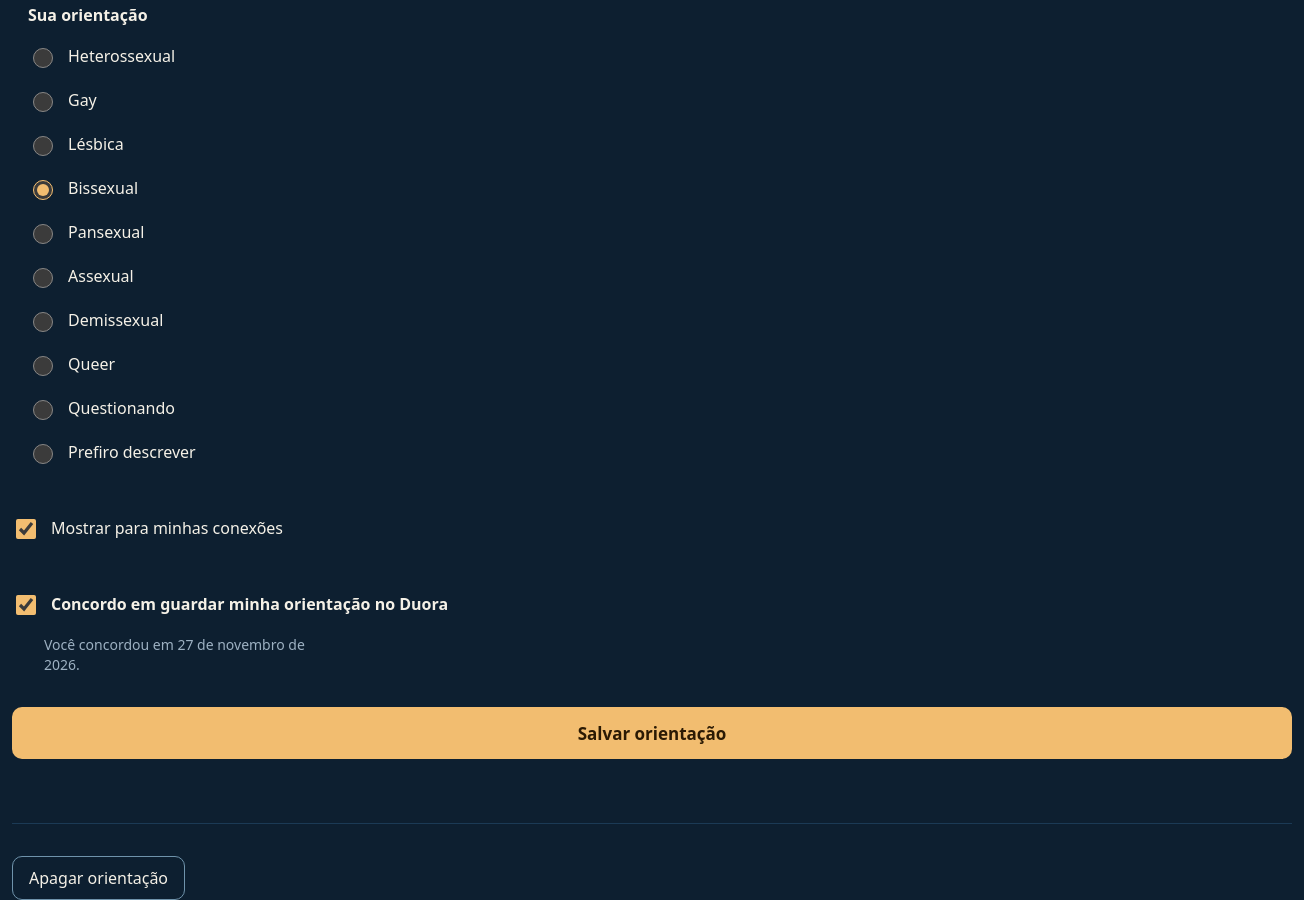
Orientacao › apagarChamaDeleteEMostraStatus
(page scrolled)
Click the button "Apagar orientação". click: (98, 878)
box: x1=12 y1=856 x2=185 y2=899
(page scrolled)
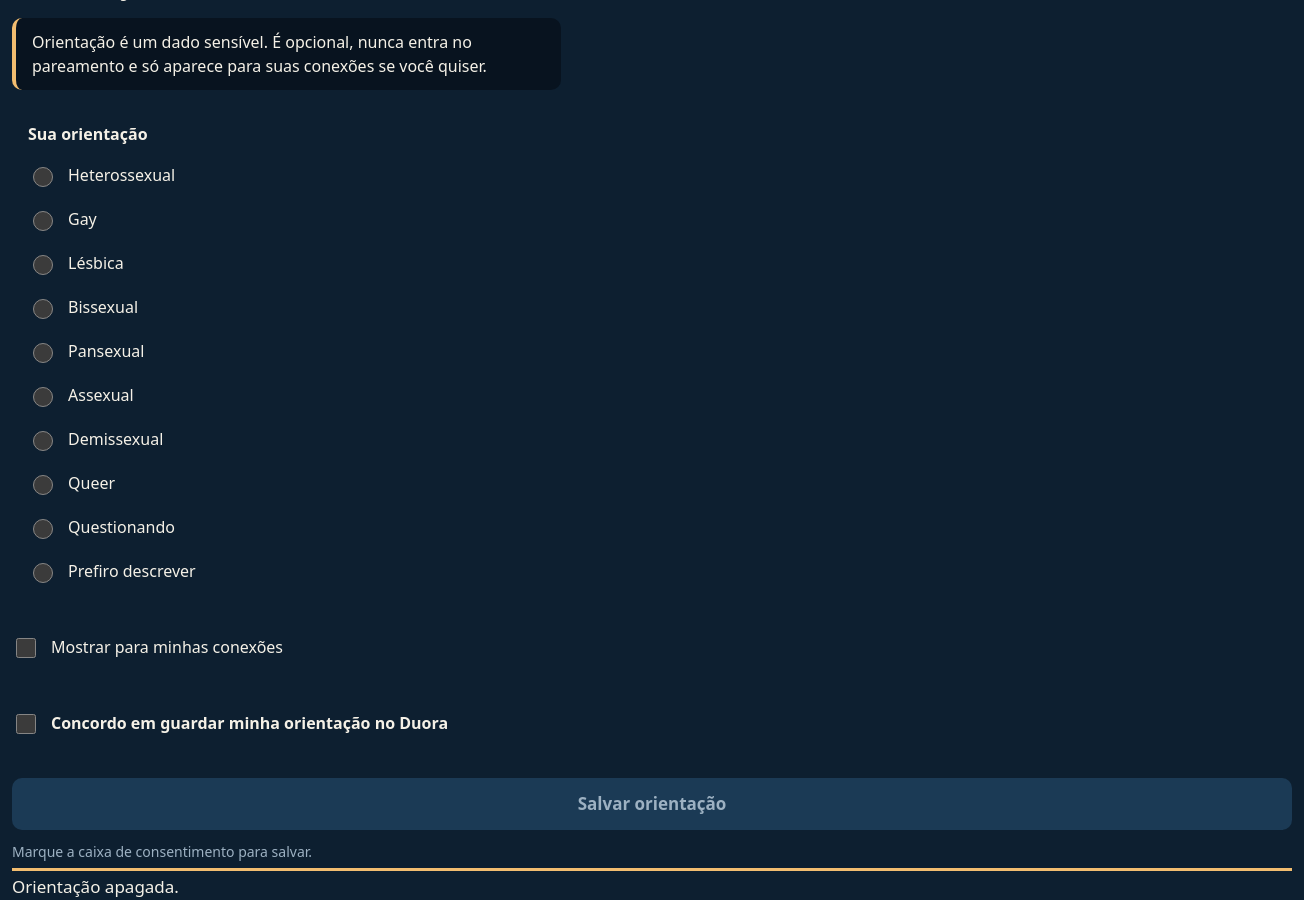
Result: the radio button labelled "Bissexual" is not checked at x1=33 y1=299 x2=53 y2=319
Result: the checkbox labelled "Mostrar para minhas conexões" is not checked at x1=16 y1=638 x2=36 y2=658
Result: the checkbox labelled "Concordo em guardar minha orientação no Duora" is not checked at x1=16 y1=714 x2=36 y2=734
